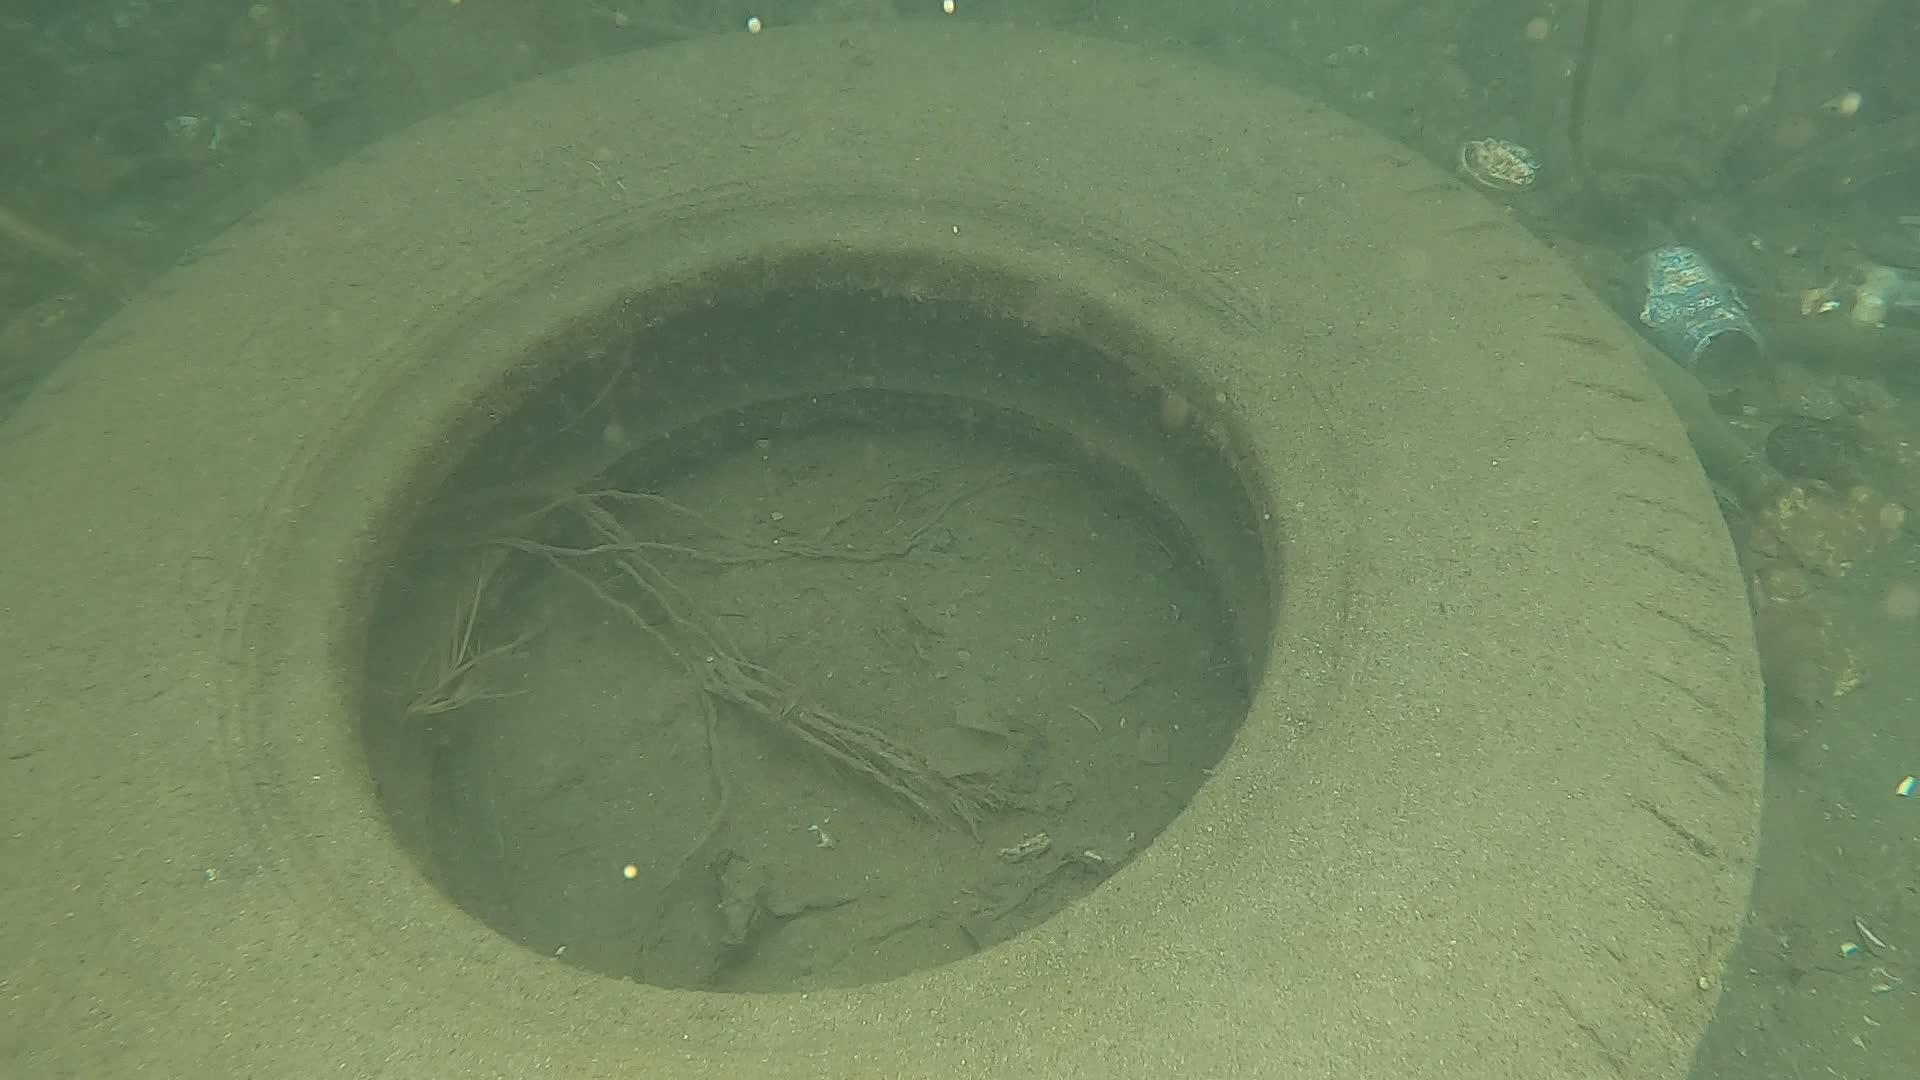tire: (0, 5, 1768, 1080)
